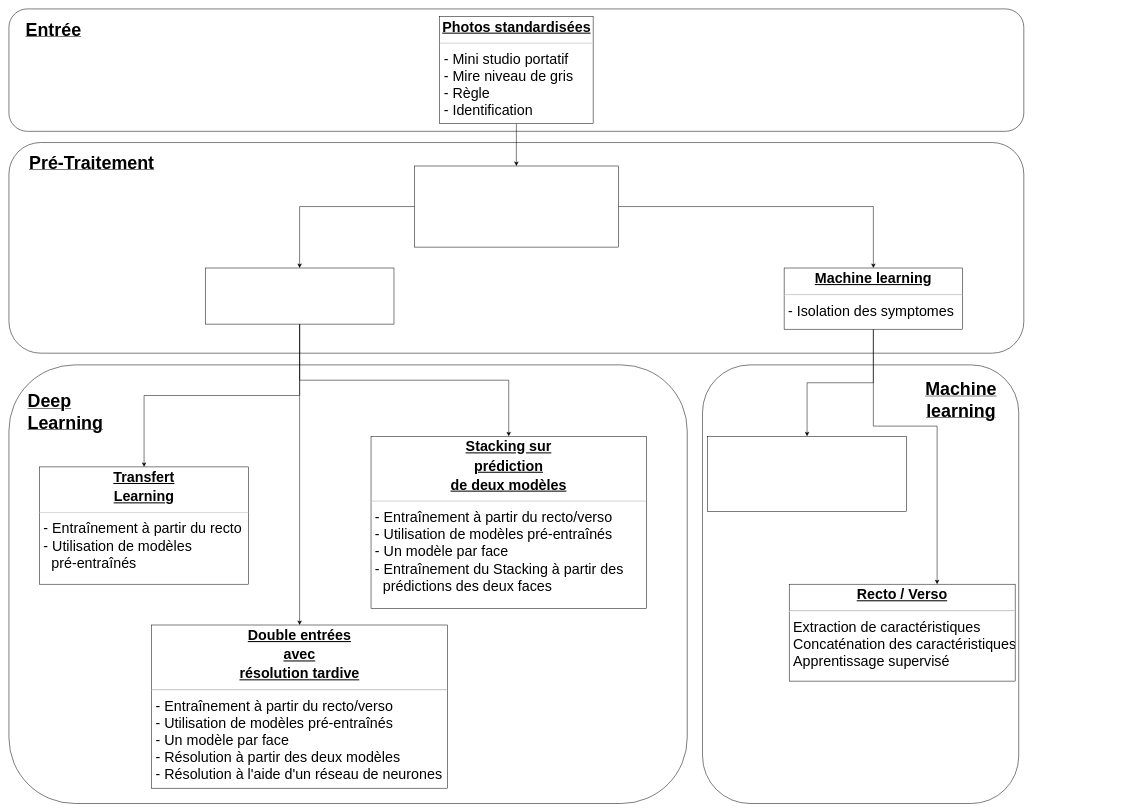
Image size: 1126x812. Some labels were removed from this diagram. Each missing label, with the box of its shape:
Commun - Balance des blancs - Recadrage autour de la feuille: (414, 165, 618, 247)
Deep learning - Augmentation de données: (205, 267, 394, 324)
Recto Extraction de caractéristiques Apprentissage supervisé: (707, 436, 907, 511)
